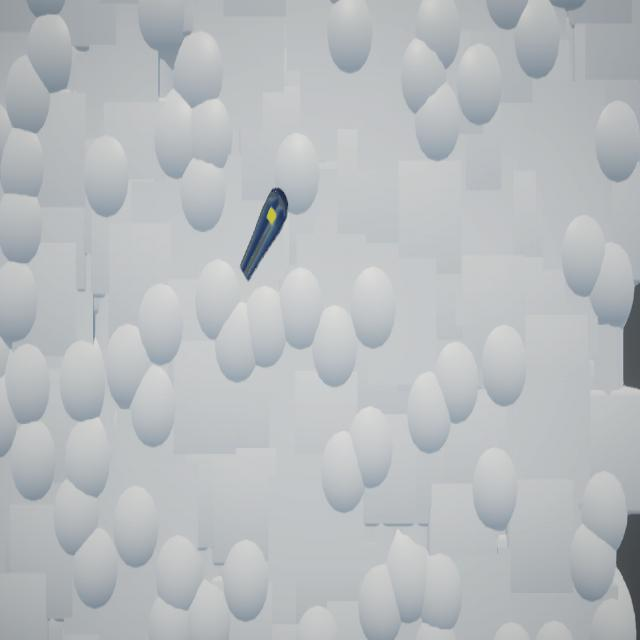handle_knife: (241, 189, 290, 283)
